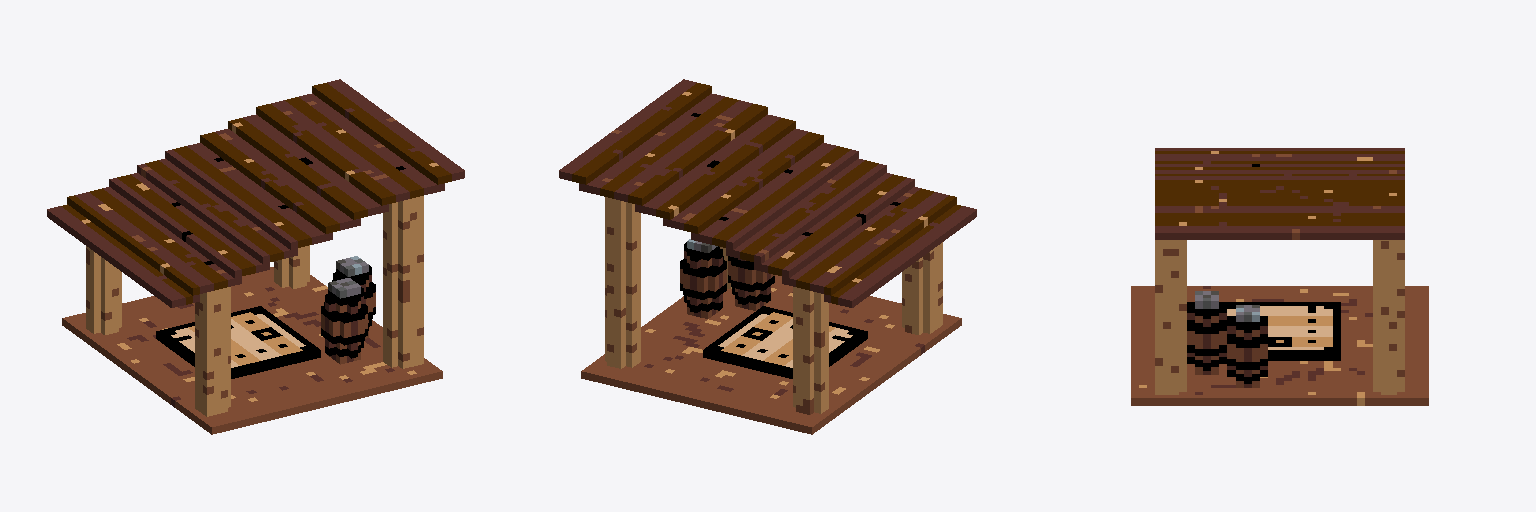
3 views of the same model, side by side, from view 1: azimuth 30°, elevation 25°; view 2: azimuth 150°, elevation 25°; view 3: azimuth 270°, elevation 25° (orthographic).
Visible parts, largest first — view 1: object 1; view 2: object 1; view 3: object 1.
Part boxes in pixels (bbox=[...]): object 1: bbox=[47, 79, 464, 434]; object 1: bbox=[559, 79, 976, 434]; object 1: bbox=[1131, 148, 1428, 405].
Size of the model in its own units: 4.2 by 2.6 by 3.7.
Materials: 1 (1 with a texture image).